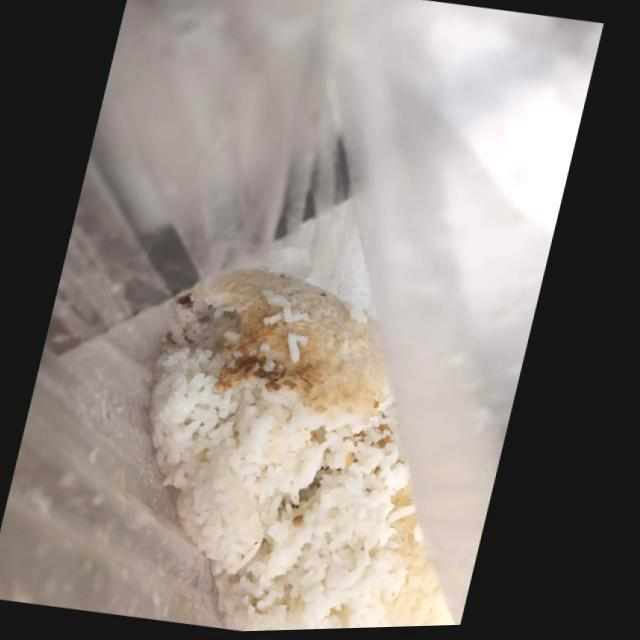left_over_food: (155, 270, 466, 633)
